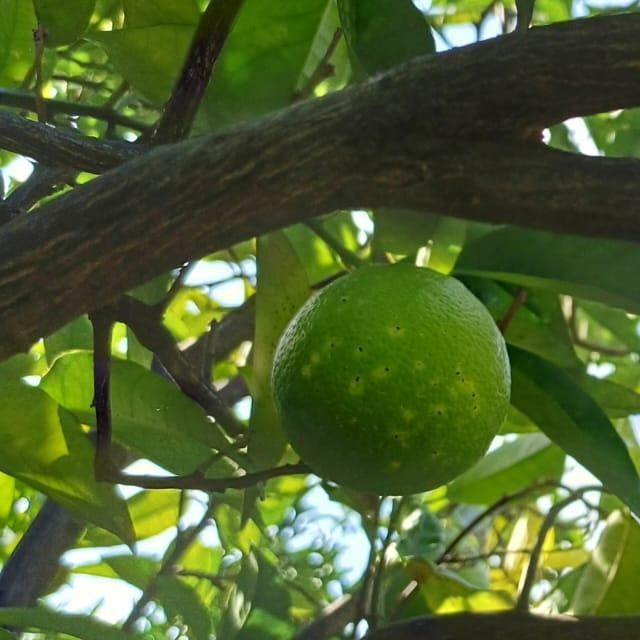orange: (265, 257, 513, 509), (618, 632, 640, 640)
